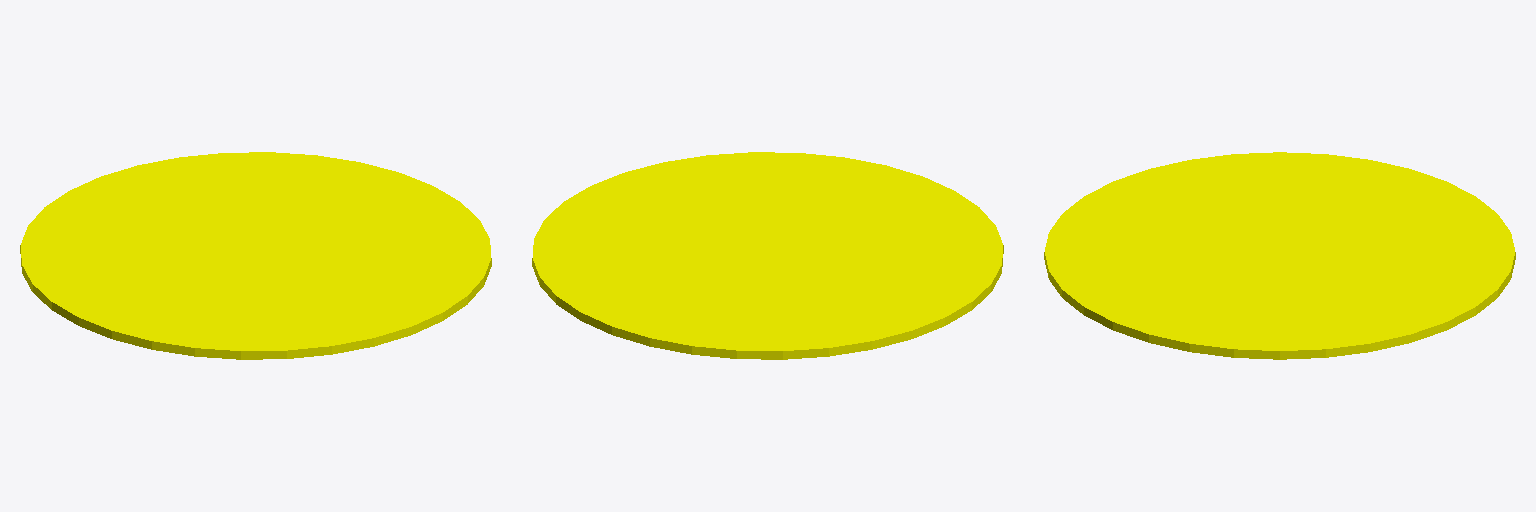
The robot description file, URDF, robot "circle":
<?xml version="1.0"?>
<!-- created with Phobos 1.0.1 "Capricious Choutengan" -->
  <robot name="circle">

    <link name="Untitled">
      <inertial>
        <origin xyz="0 0 0" rpy="0 0 0"/>
        <mass value="0.001"/>
        <inertia ixx="0.001" ixy="0" ixz="0" iyy="0.001" iyz="0" izz="0.001"/>
      </inertial>
      <visual name="Cylinder">
        <origin xyz="0 0 0" rpy="0 0 0"/>
        <geometry>
          <cylinder radius="0.25" length="0.01"/>
        </geometry>
        <material name="Material.003"/>
      </visual>
    </link>

    <material name="Material.003">
      <color rgba="1 1 0 1.0"/>
    </material>

  </robot>

--- Facts derived from the render (not from the file) ---
Views: 3 orthographic renders of the robot side by side, from view 1: azimuth 30°, elevation 25°; view 2: azimuth 150°, elevation 25°; view 3: azimuth 270°, elevation 25°.
Robot: circle — 1 links, 0 joints (none); root link Untitled; default pose: all joints at 0.
Visible links, largest first — view 1: Untitled; view 2: Untitled; view 3: Untitled.
Boxes of the visible links, x1=… form: Untitled: x1=20, y1=152, x2=491, y2=359; Untitled: x1=532, y1=152, x2=1003, y2=359; Untitled: x1=1044, y1=152, x2=1515, y2=359.
Bounding box of the posed robot: 0.5 × 0.5 × 0.01 m (x, y, z).
Geometry: primitives only (box / cylinder / sphere), no mesh files.